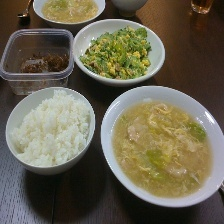rice: (7, 89, 93, 164)
